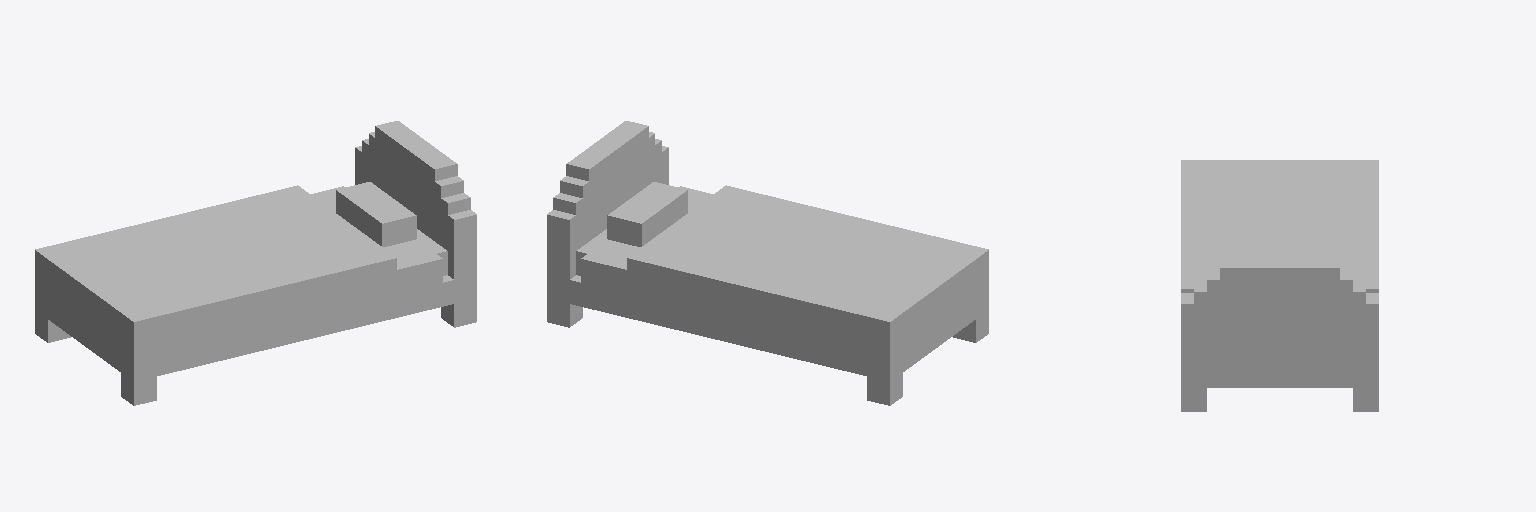
The model's file is bed.obj.
3 views of the same model, side by side, from view 1: azimuth 30°, elevation 25°; view 2: azimuth 150°, elevation 25°; view 3: azimuth 270°, elevation 25° (orthographic).
Size of the model in its own units: 30 by 12 by 15.